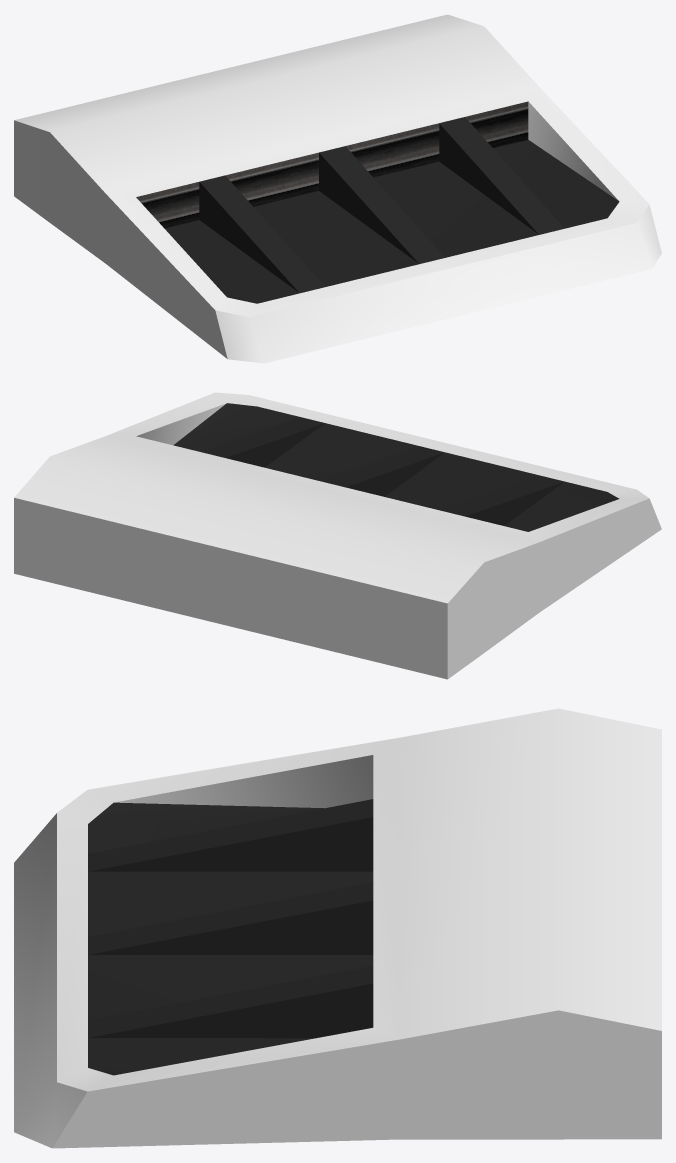
Rendered from Mask_Inlet_8.fbx.
The picture shows the model from 3 angles, top to bottom: view 1: azimuth 30°, elevation 25°; view 2: azimuth 150°, elevation 25°; view 3: azimuth 270°, elevation 25°; orthographic projection. The views are drawn at different scales.
Parts seen in each view (by area): view 1: Mask_Inlet_8; view 2: Mask_Inlet_8; view 3: Mask_Inlet_8.
Boxes of the visible parts, bbox=[...] form: Mask_Inlet_8: bbox=[14, 14, 661, 363]; Mask_Inlet_8: bbox=[14, 392, 661, 679]; Mask_Inlet_8: bbox=[14, 708, 661, 1148].
Size of the model in its own units: 46.92 by 10.01 by 42.57.
